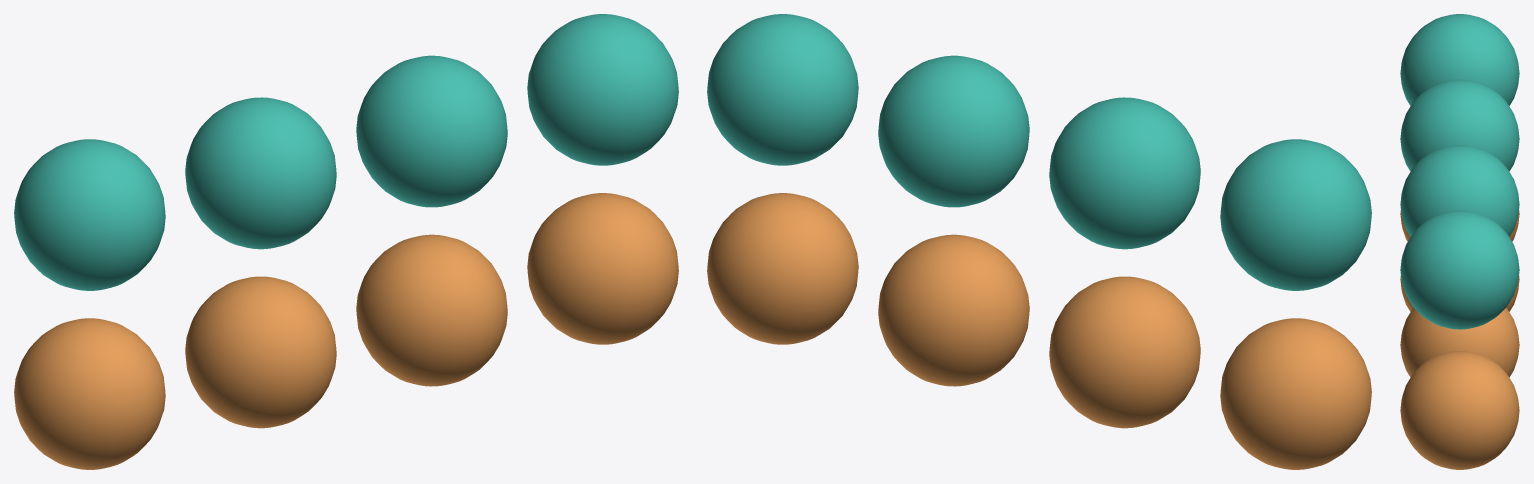
Rendered from MaterialLab-embedded.gltf.
3 views of the same model, side by side, from view 1: azimuth 30°, elevation 25°; view 2: azimuth 150°, elevation 25°; view 3: azimuth 270°, elevation 25° (orthographic). The views are drawn at different scales.
Visible parts, largest first — view 1: Instance 0, Instance 7, Instance 3, Instance 4, Instance 1, Instance 2, Instance 5, Instance 6; view 2: Instance 0, Instance 7, Instance 3, Instance 4, Instance 1, Instance 2, Instance 5, Instance 6; view 3: Instance 3, Instance 7, Instance 1, Instance 2, Instance 0, Instance 6, Instance 5, Instance 4.
Boxes of the visible parts, x1,y1,x2,y2 form: Instance 0: [14, 139, 165, 290]; Instance 7: [527, 193, 678, 344]; Instance 3: [527, 14, 678, 165]; Instance 4: [14, 318, 165, 469]; Instance 1: [185, 97, 336, 249]; Instance 2: [356, 55, 507, 207]; Instance 5: [185, 276, 336, 428]; Instance 6: [356, 234, 507, 386]; Instance 0: [1220, 139, 1371, 290]; Instance 7: [707, 193, 858, 344]; Instance 3: [707, 14, 858, 165]; Instance 4: [1220, 318, 1371, 469]; Instance 1: [1049, 97, 1200, 249]; Instance 2: [878, 55, 1029, 207]; Instance 5: [1049, 276, 1200, 428]; Instance 6: [878, 234, 1029, 386]; Instance 3: [1400, 210, 1519, 329]; Instance 7: [1400, 351, 1519, 469]; Instance 1: [1400, 79, 1519, 171]; Instance 2: [1400, 145, 1519, 236]; Instance 0: [1400, 14, 1519, 105]; Instance 6: [1400, 308, 1519, 377]; Instance 5: [1400, 275, 1519, 311]; Instance 4: [1400, 210, 1519, 241].
Bounding box in the file's own units: 9.8 × 4.6 × 2.
